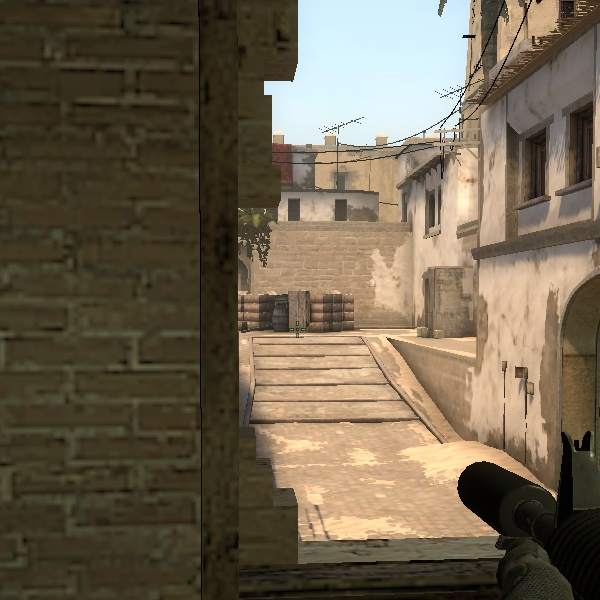ct_body: (244, 204, 277, 265)
